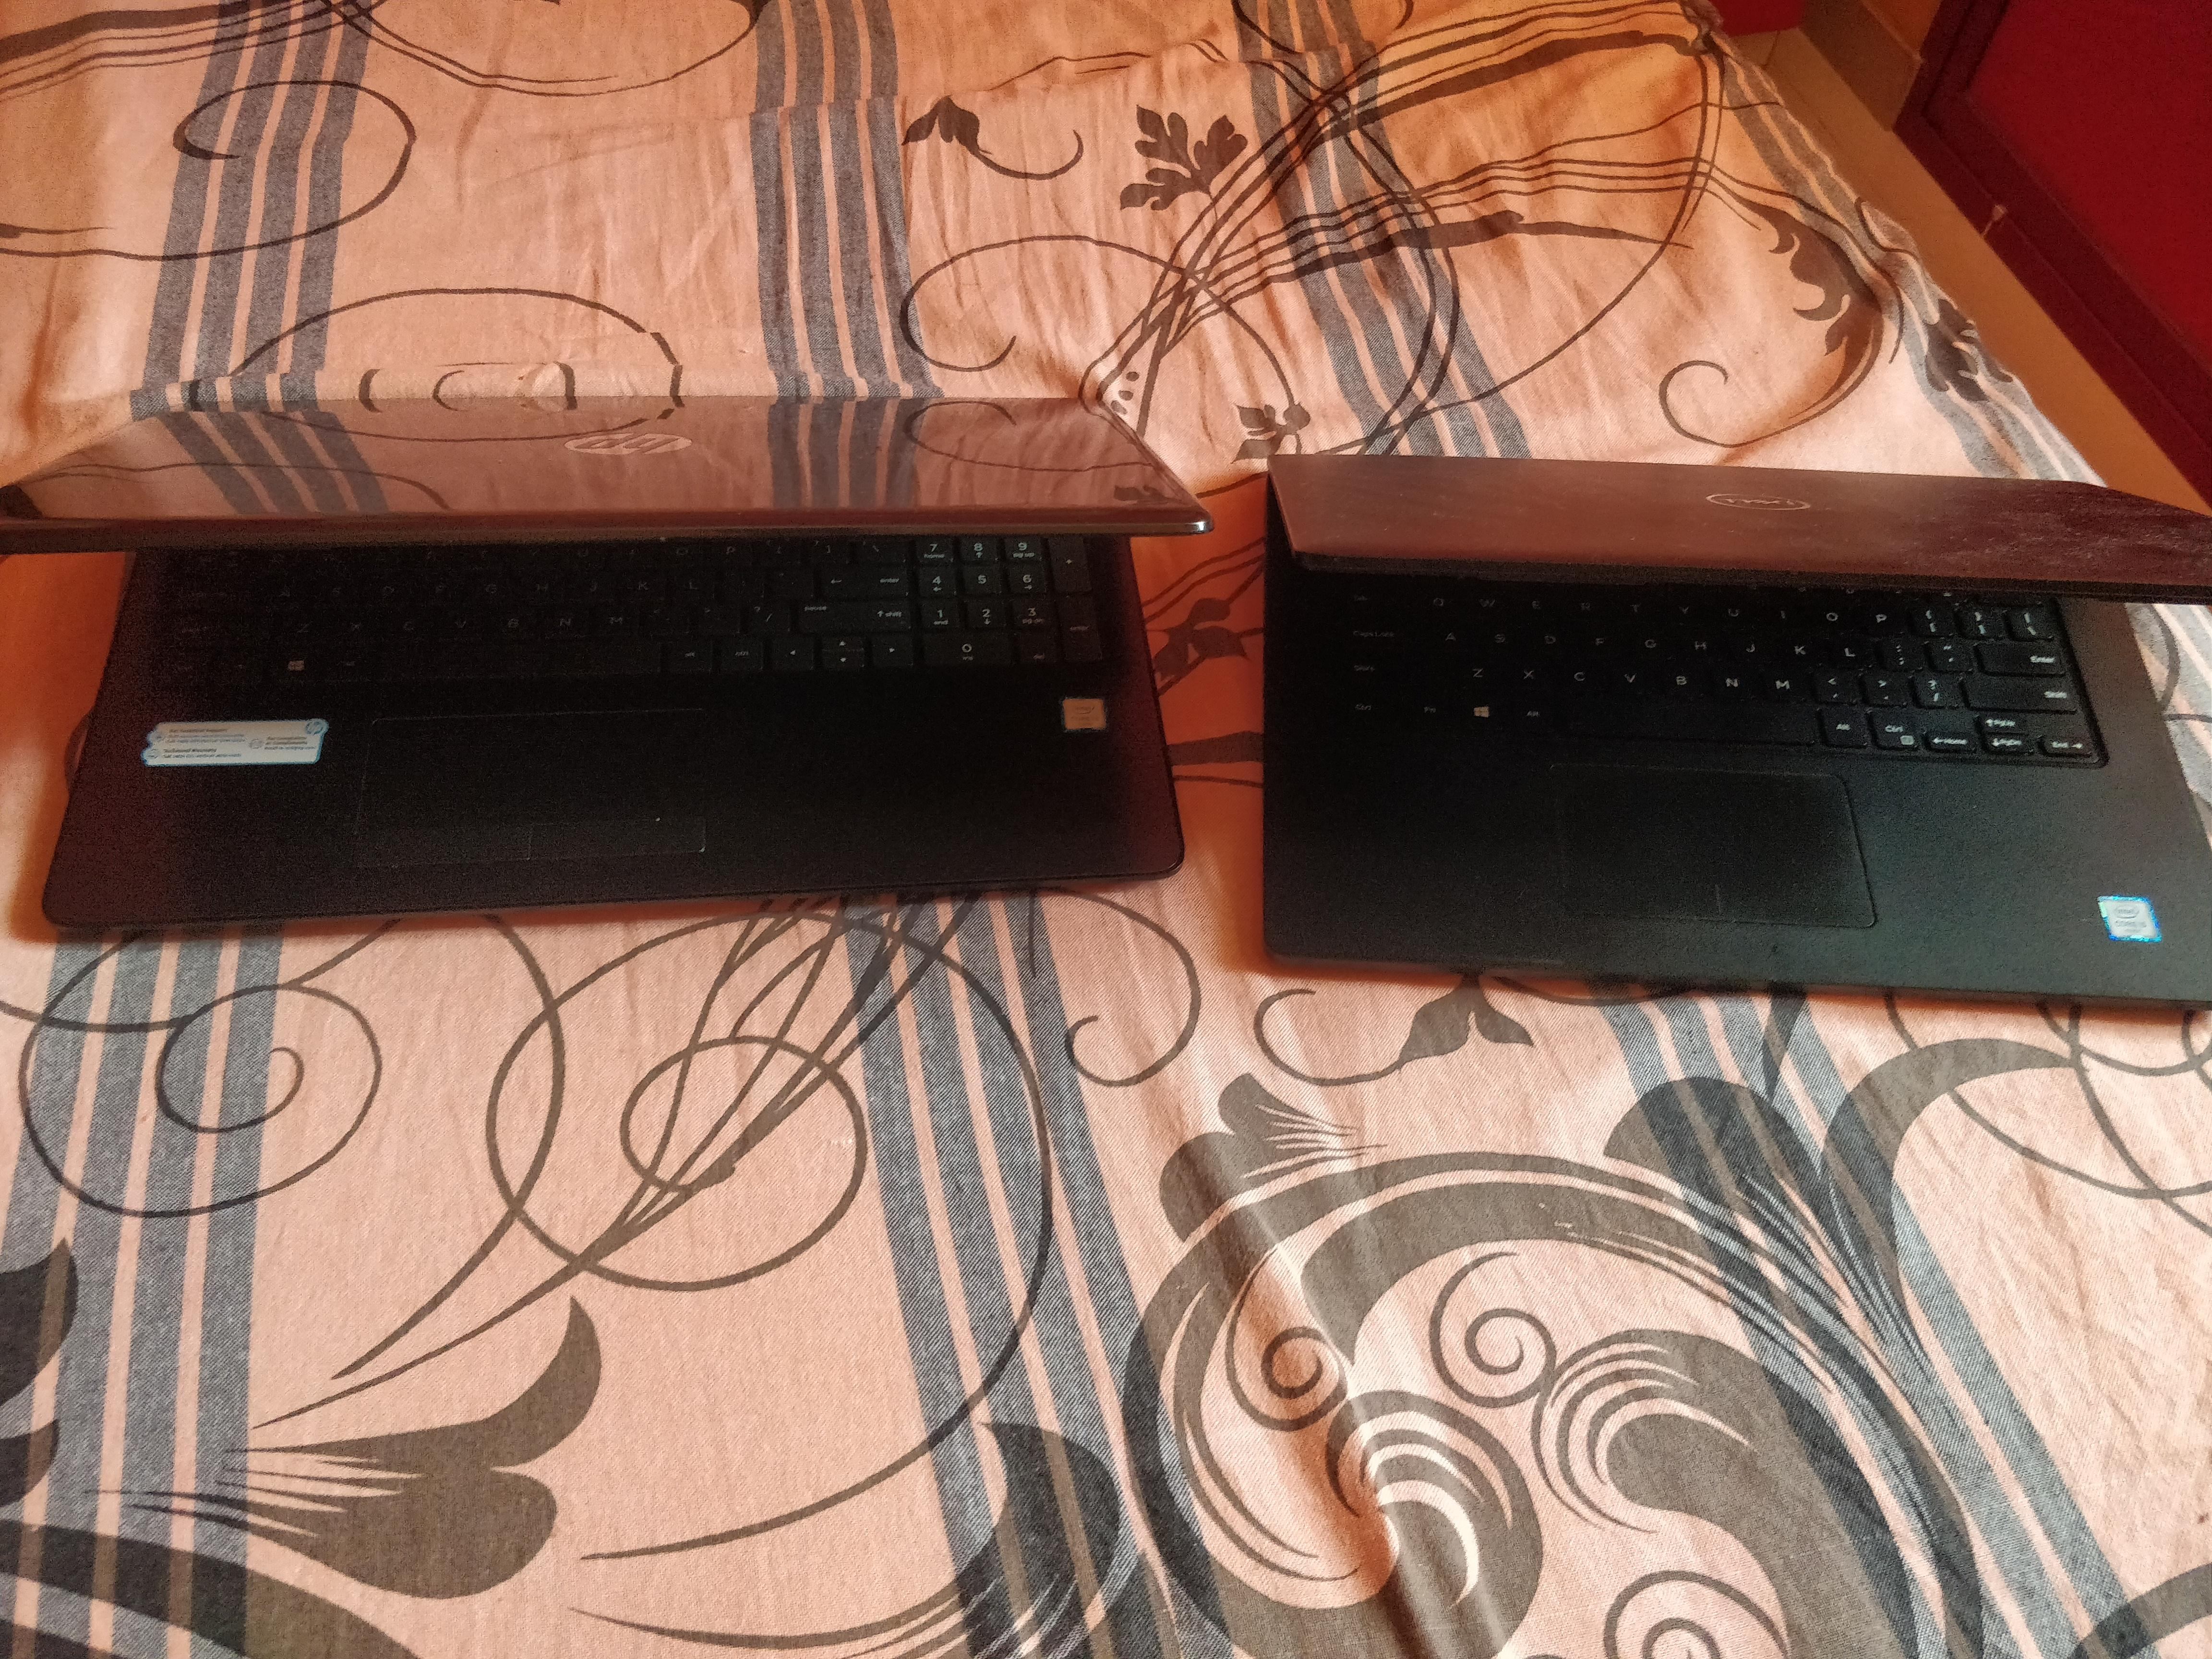laptop: (0, 366, 1217, 957), (1244, 418, 2212, 1030)
